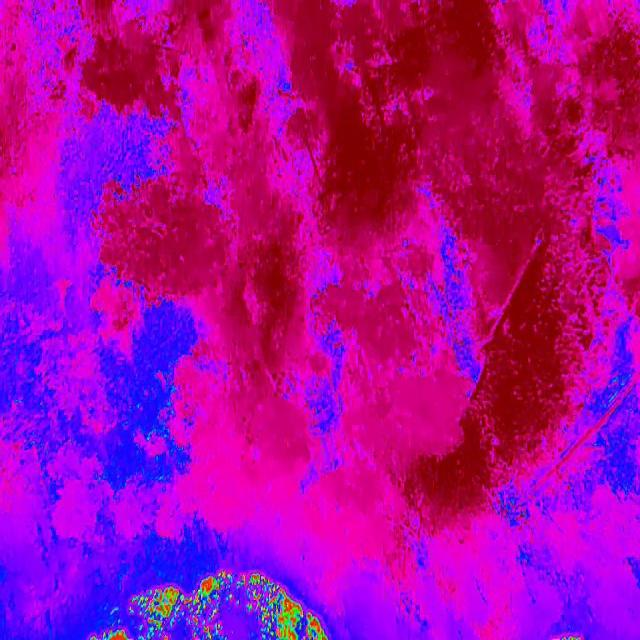fire: (133, 570, 266, 640), (266, 604, 332, 640), (83, 625, 132, 640), (266, 582, 298, 602)
